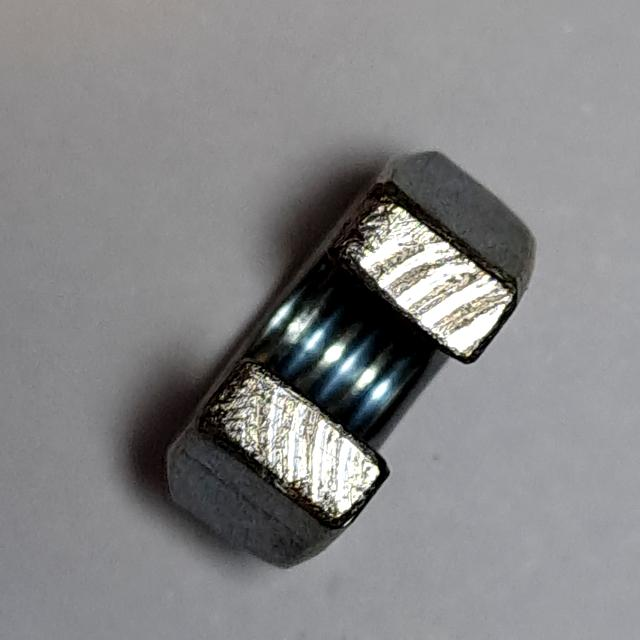Side-Fracture: (158, 141, 558, 587)
